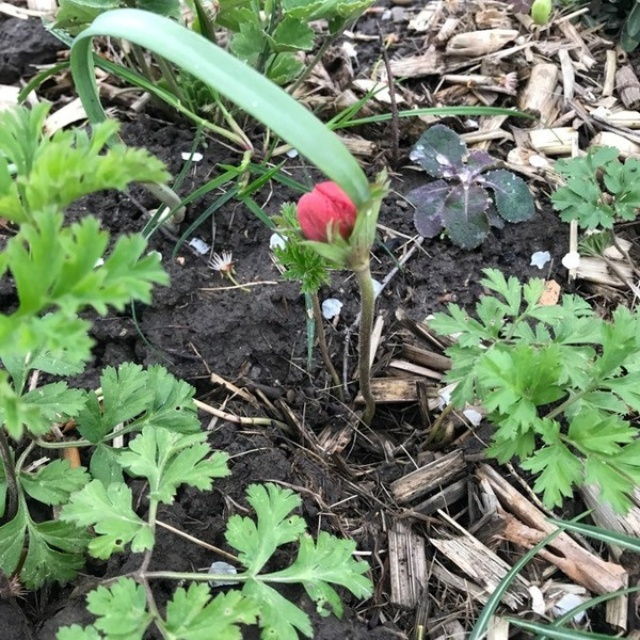obstacle: (4, 99, 289, 611), (416, 265, 620, 532), (65, 4, 384, 164), (270, 165, 395, 407), (400, 108, 539, 251), (550, 126, 630, 245)
